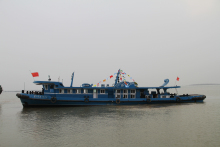otherboat: (14, 64, 208, 111)
